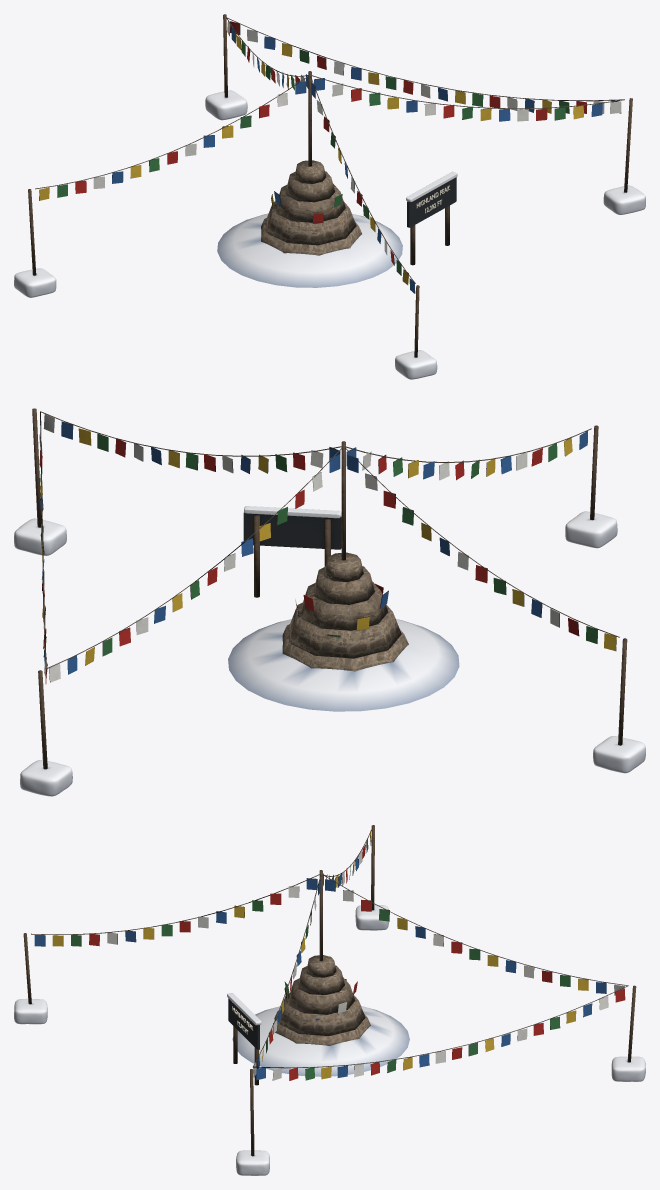
The model's file is highland_peak.glb.
3 views of the same model, one above another, from view 1: azimuth 30°, elevation 25°; view 2: azimuth 150°, elevation 25°; view 3: azimuth 270°, elevation 25° (orthographic). The views are drawn at different scales.
Parts seen in each view (by area): view 1: highland_peak, highland_peak_snow; view 2: highland_peak, highland_peak_snow; view 3: highland_peak, highland_peak_snow.
Part boxes in pixels (x1=…): highland_peak: x1=28, y1=14, x2=632, y2=357; highland_peak_snow: x1=14, y1=90, x2=645, y2=379; highland_peak: x1=32, y1=408, x2=627, y2=769; highland_peak_snow: x1=14, y1=506, x2=645, y2=796; highland_peak: x1=23, y1=825, x2=636, y2=1156; highland_peak_snow: x1=14, y1=905, x2=645, y2=1175.
Size of the model in its own units: 18 by 5.65 by 18.51.
Materials: 3 (1 with a texture image).
